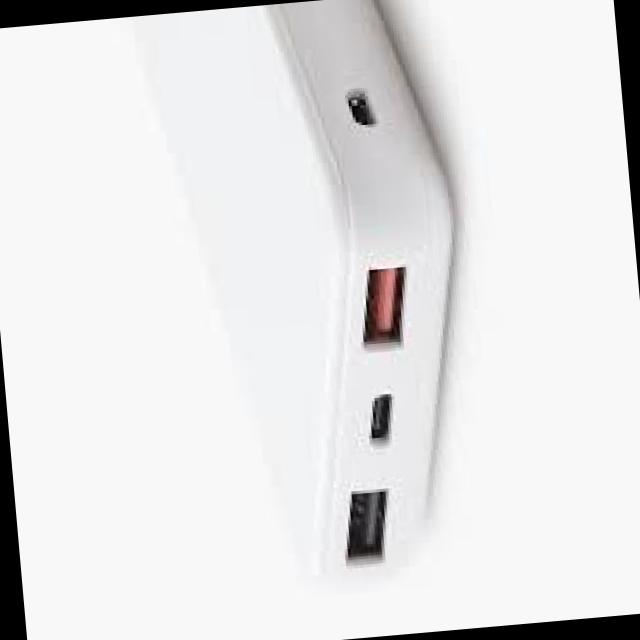power_bank: (121, 0, 491, 602)
